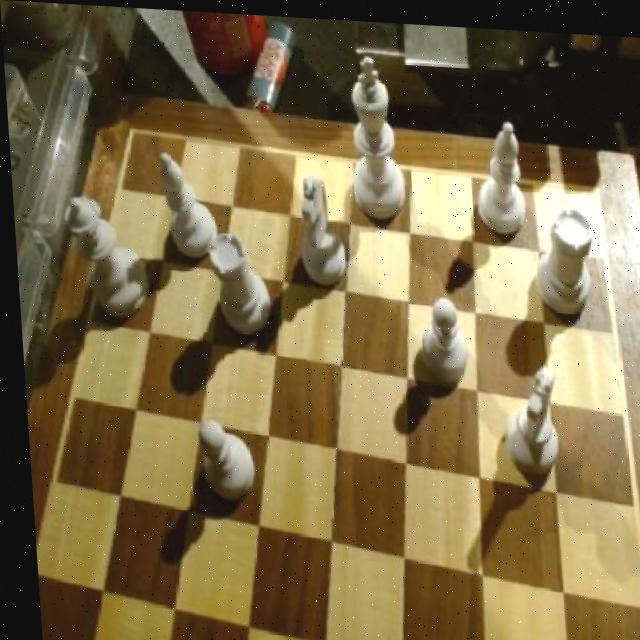black-rook: (471, 111, 531, 235), (153, 144, 215, 259)
white-bishop: (340, 50, 410, 226)
white-king: (496, 350, 560, 477), (290, 169, 349, 288)
white-knight: (189, 406, 256, 500), (413, 288, 471, 380)
white-pawn: (58, 194, 149, 323)
white-queen: (527, 195, 598, 315), (203, 230, 277, 337)
